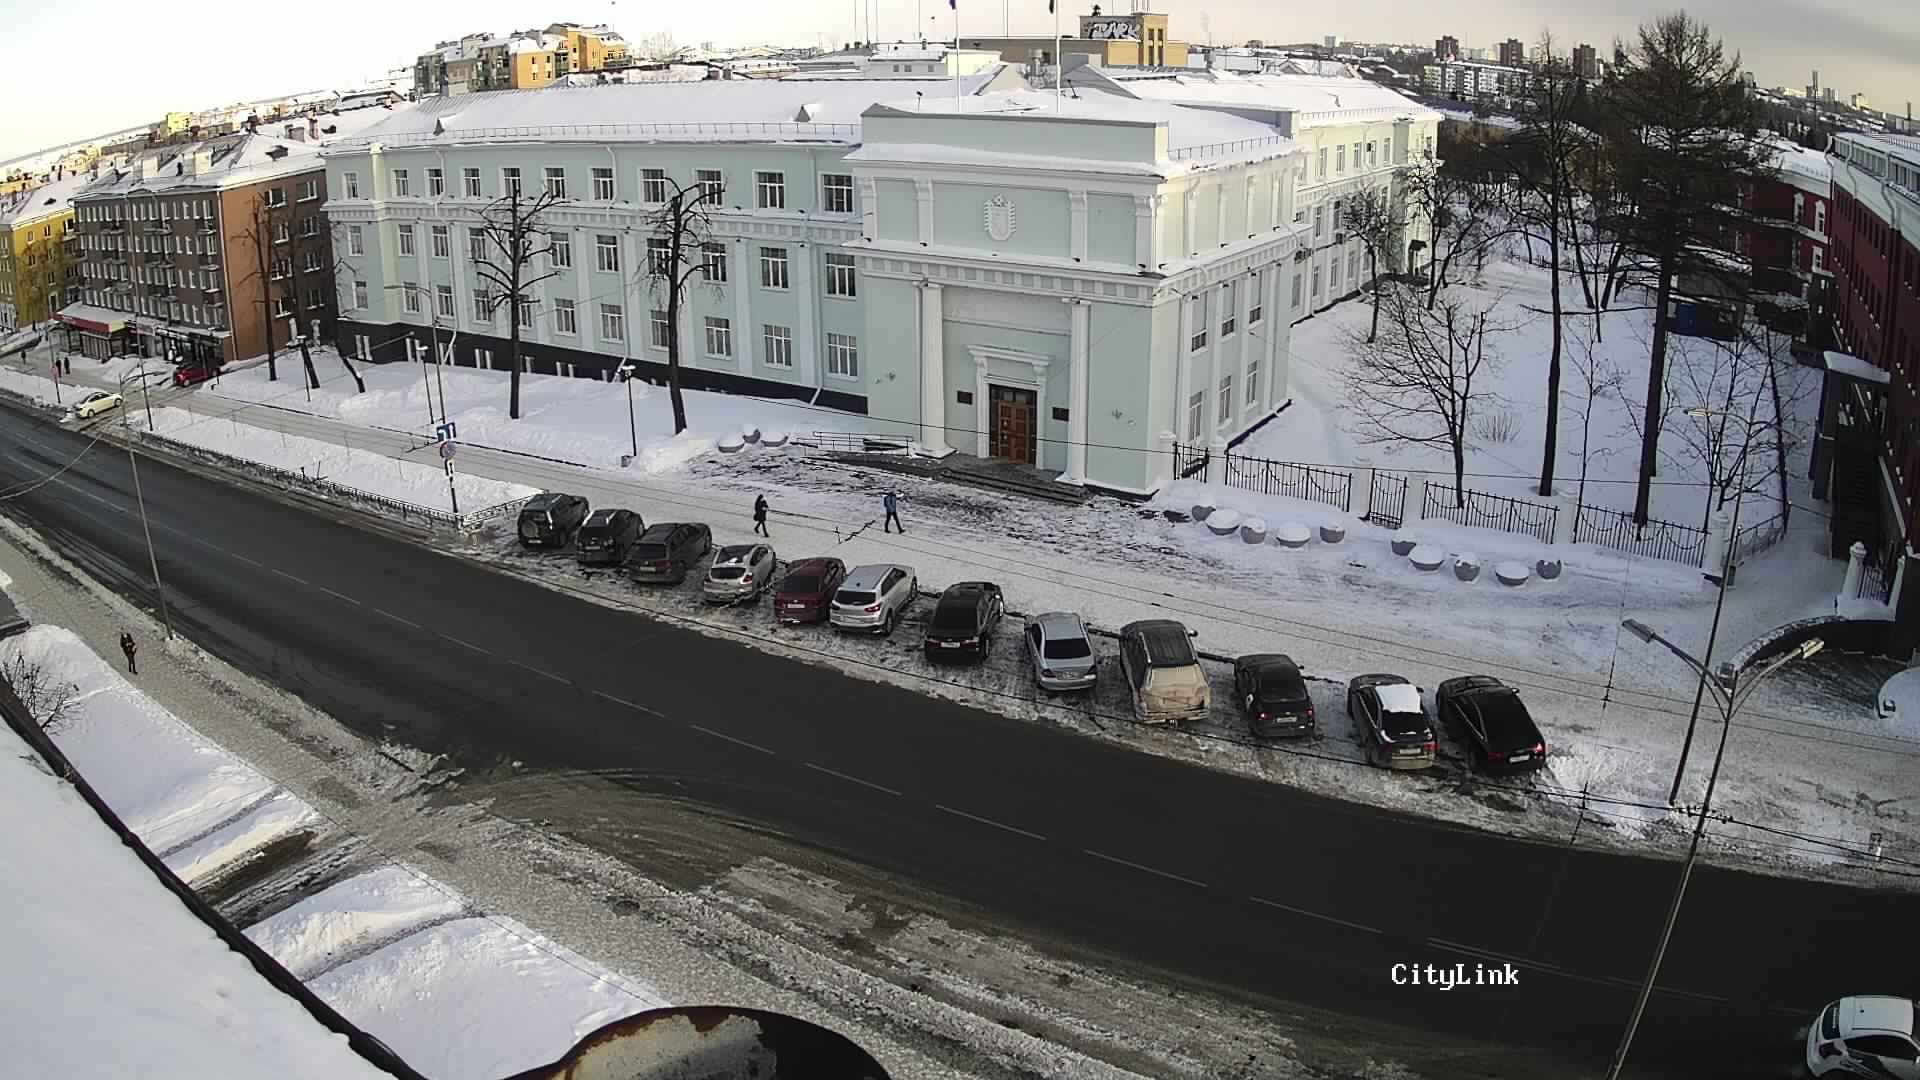car: (1437, 673, 1549, 804), (1101, 618, 1217, 731), (1329, 666, 1437, 779), (1218, 645, 1327, 754), (920, 575, 1009, 684), (827, 559, 920, 655), (1015, 601, 1102, 704), (615, 518, 709, 596), (767, 556, 845, 641), (691, 537, 774, 615), (497, 491, 588, 556), (564, 506, 644, 579)
